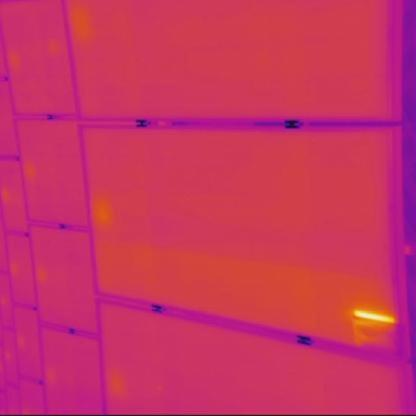anomaly: (349, 305, 401, 336)
